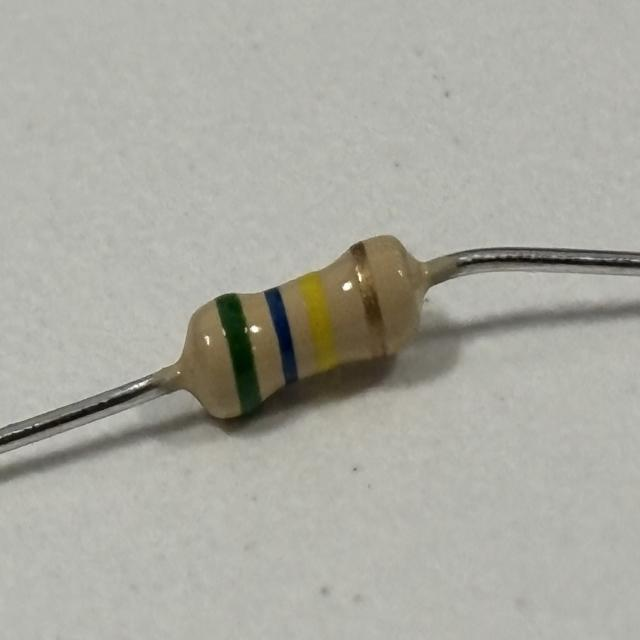resistor: (189, 232, 417, 426)
